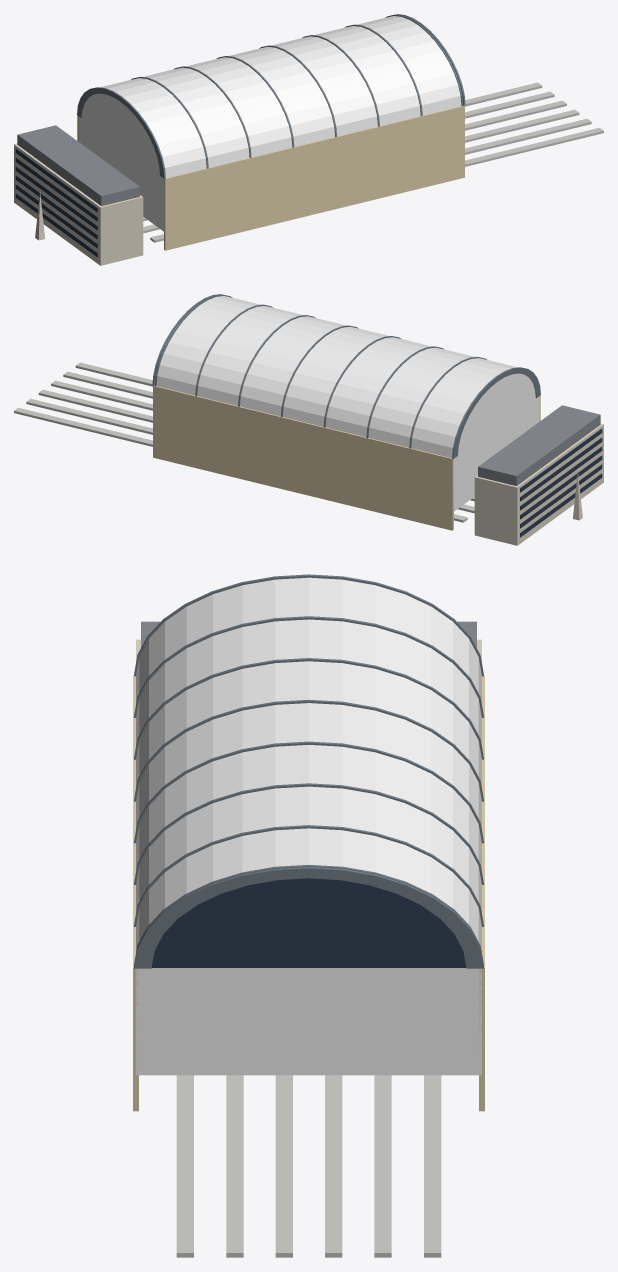
Rendered from terminal_charing-cross.glb.
3 renders of one model, top to bottom at view 1: azimuth 30°, elevation 25°; view 2: azimuth 150°, elevation 25°; view 3: azimuth 270°, elevation 25°, orthographic. The views are drawn at different scales.
Visible parts, largest first — view 1: charing-cross; view 2: charing-cross; view 3: charing-cross.
Part boxes in pixels (x1,y1,x2,y2): charing-cross: (14, 14, 603, 265); charing-cross: (14, 294, 603, 545); charing-cross: (133, 574, 484, 1257).
Size of the model in its own units: 250 by 54.4 by 71.2.
